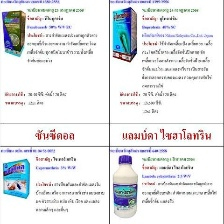book: (0, 156, 31, 200)
carton: (110, 5, 139, 66), (0, 7, 26, 58)
insecticide: (110, 153, 139, 219)
